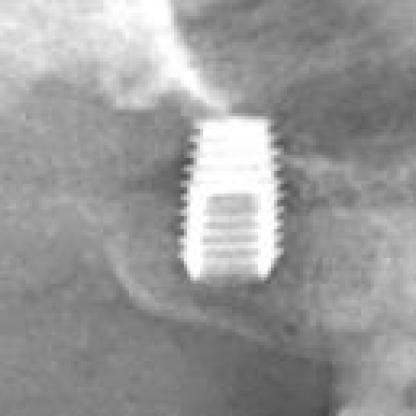Bicon: (162, 103, 317, 306)
